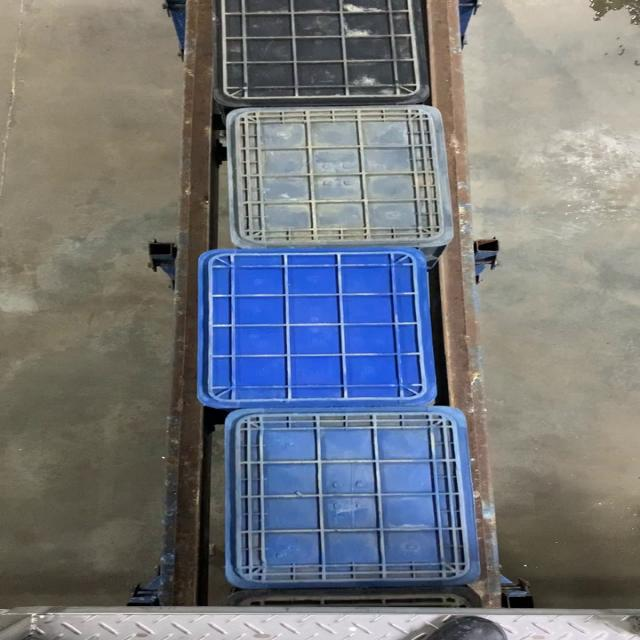Box: (220, 407, 478, 589), (195, 248, 436, 406), (220, 105, 458, 248)
